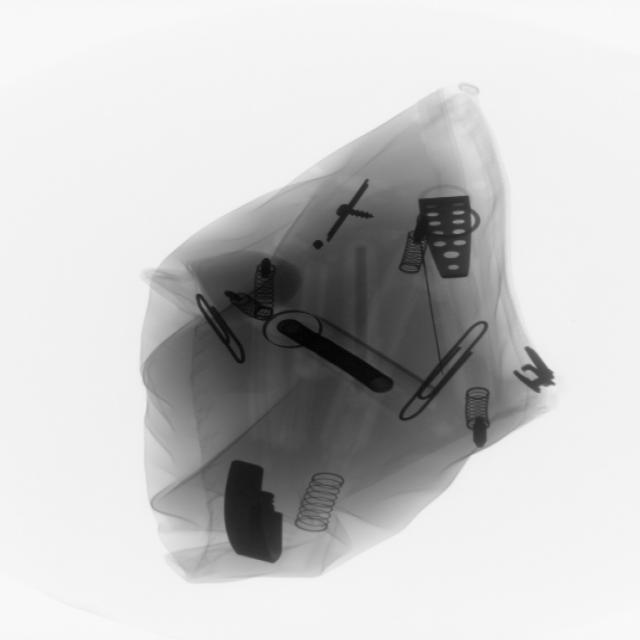SCREW: (318, 180, 376, 249)
